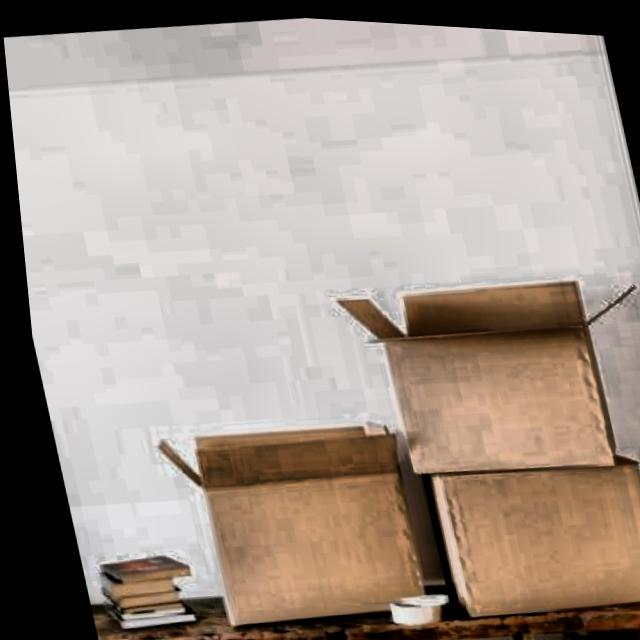Cardbox: (98, 240, 640, 640), (175, 390, 440, 640)
